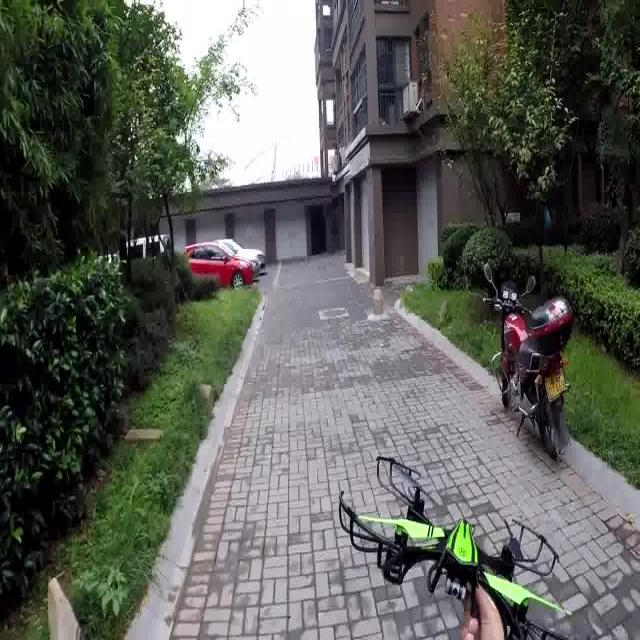drones: (333, 449, 574, 640)
